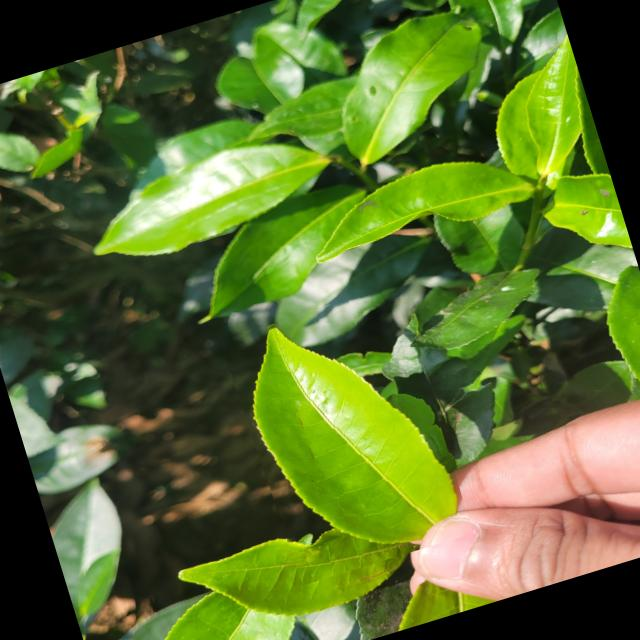Catagory A(1-2 days): (218, 281, 473, 587)
